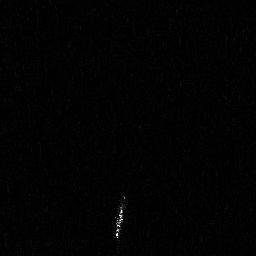ship: (115, 205, 123, 240)
